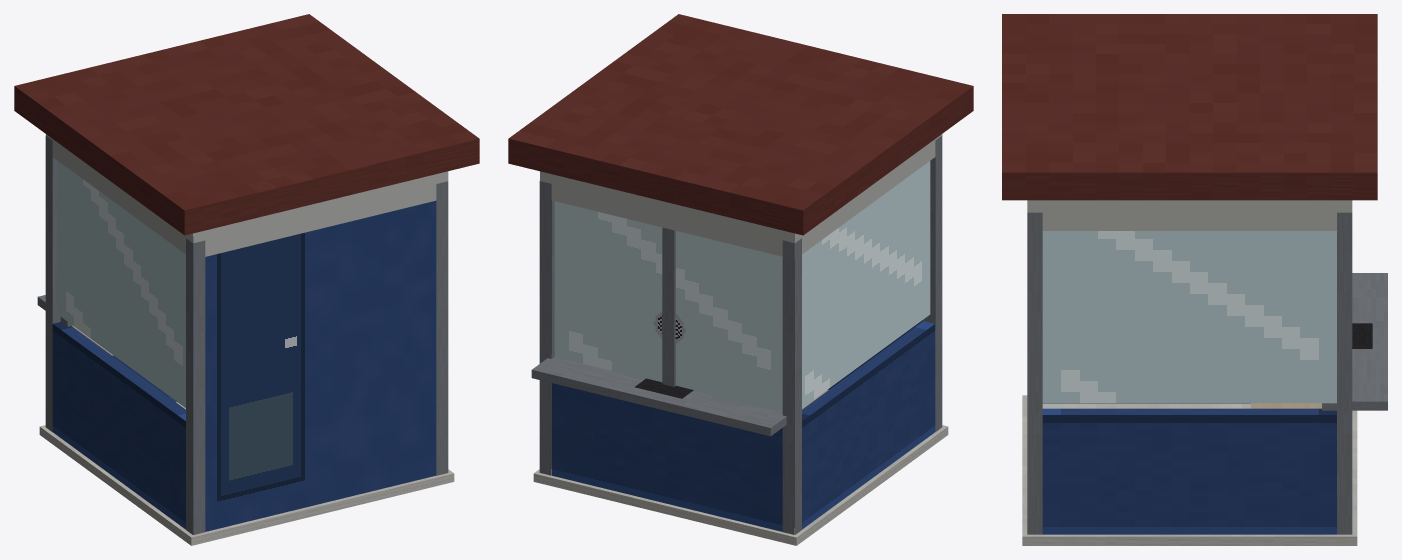
The model's file is ticket_booth.obj.
The picture shows the model from 3 angles, left to right: view 1: azimuth 30°, elevation 25°; view 2: azimuth 150°, elevation 25°; view 3: azimuth 270°, elevation 25°; orthographic projection. The views are drawn at different scales.
Visible parts, largest first — view 1: ticket_booth; view 2: ticket_booth; view 3: ticket_booth.
Part boxes in pixels (x1,y1,x2,y2): ticket_booth: (14,14,479,545); ticket_booth: (508,14,973,545); ticket_booth: (1002,14,1387,545).
Bounding box in the file's own units: 2.31 × 2.59 × 2.38.
